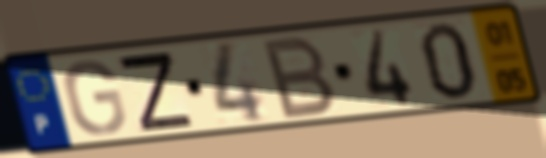0: (416, 19, 481, 102)
4: (209, 40, 270, 125), (362, 26, 417, 109)
B: (261, 32, 340, 122)
G: (60, 57, 129, 138)
Z: (112, 49, 198, 134)
